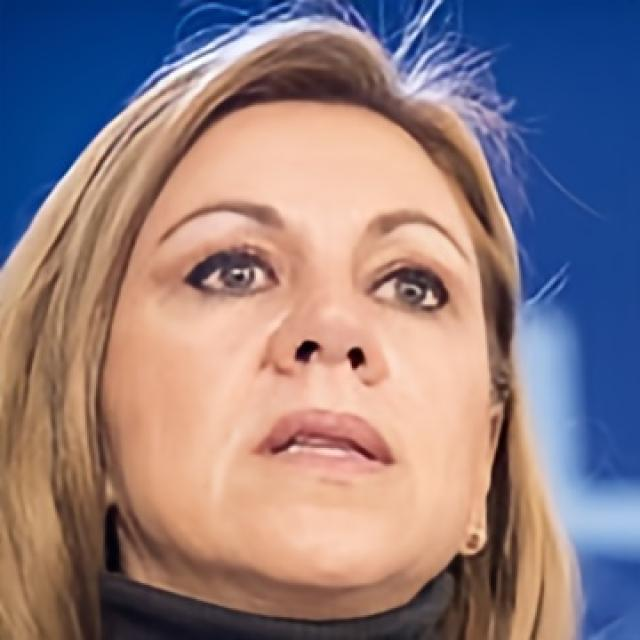surprise: (101, 91, 493, 592)
